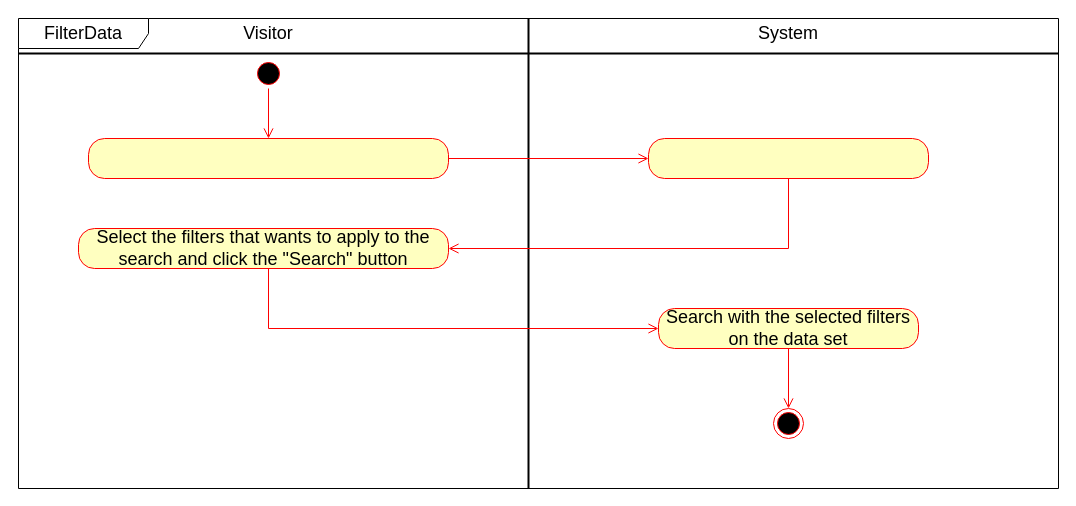
The diagram is 1076 pixels wide and 506 high, and some of its shapes have lost their labels. The shapes that lost their labels are listed below. From the top down, each one's centre as x and y in pixels, then its label:
point 268,158: Select the "Filter" button on a data set
point 788,158: Display a pop up with different filter options
